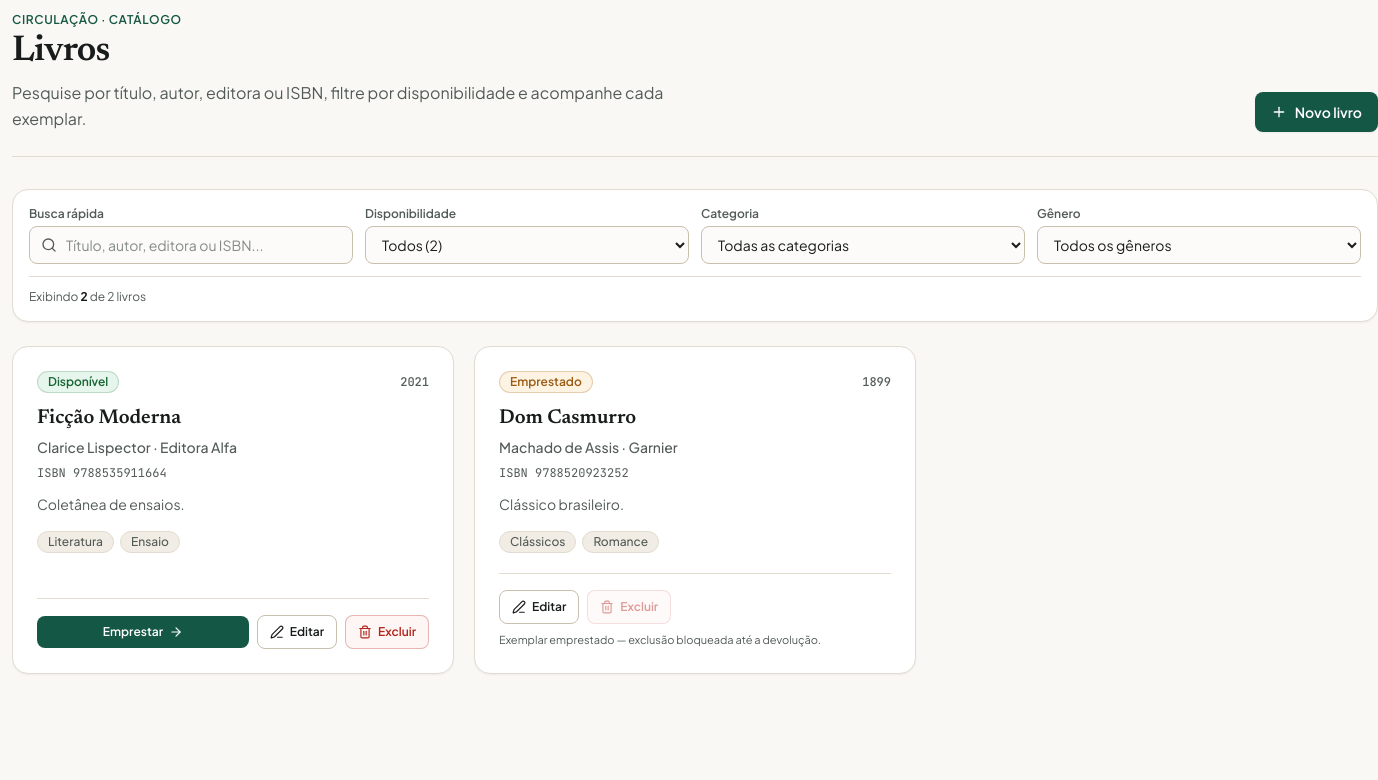
Scenario: Livros › filtra livros ignorando acentos e caixa alta/baixa e bloqueia exclusão de livro emprestado
Expected: the heading "Ficção Moderna" is shown, [37,408,181,428]
Expected: the heading "Dom Casmurro" is shown, [499,408,636,428]
Type "ficcao" into the search field labelled "Busca rápida" at x=191, y=245, box [29,226,353,264]
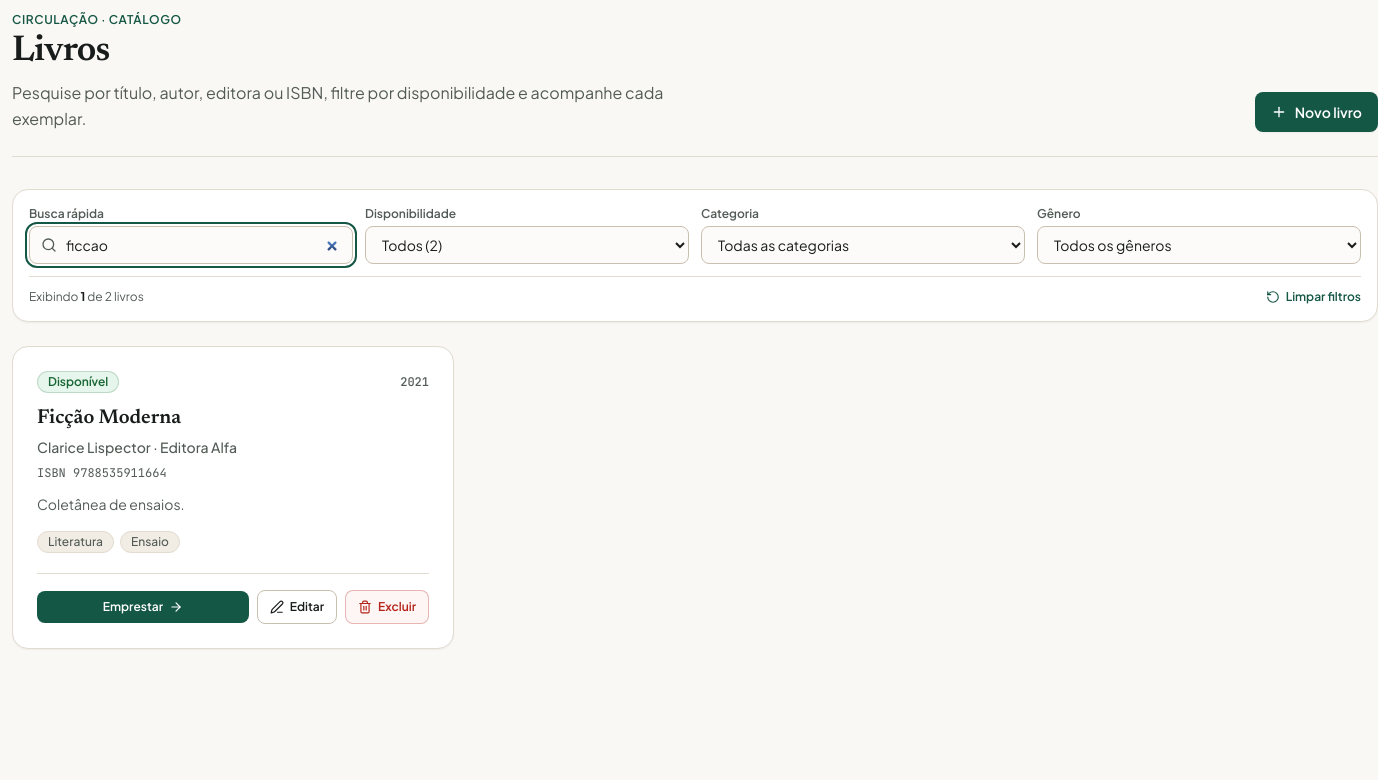
Expected: the heading "Ficção Moderna" is shown, [37,408,181,428]
Expected: the heading "Dom Casmurro" is gone
